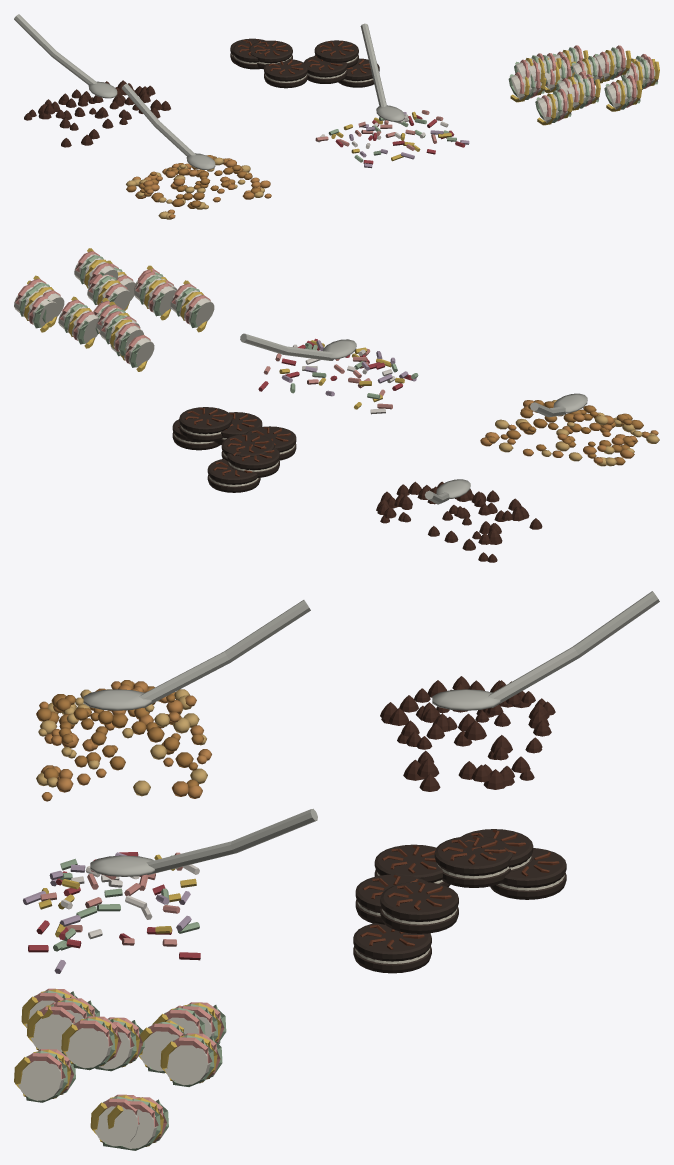
File: crunch.glb
The picture shows the model from 3 angles, top to bottom: view 1: azimuth 30°, elevation 25°; view 2: azimuth 150°, elevation 25°; view 3: azimuth 270°, elevation 25°; orthographic projection. The views are drawn at different scales.
Visible parts, largest first — view 1: crunch; view 2: crunch; view 3: crunch.
Boxes of the visible parts, left/top/right/bottom form: crunch: left=14, top=14, right=659, bottom=219; crunch: left=14, top=248, right=659, bottom=562; crunch: left=14, top=591, right=659, bottom=1150.
Size of the model in its own units: 0.7821 by 0.1219 by 0.4763.
